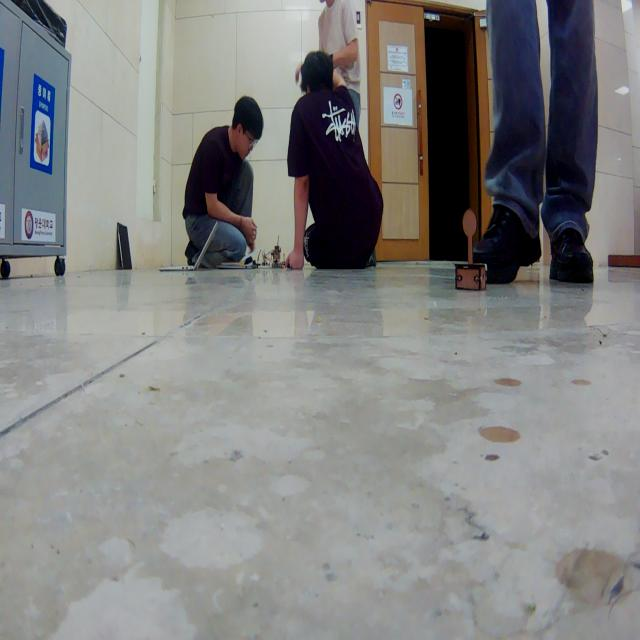target: (454, 207, 487, 291)
